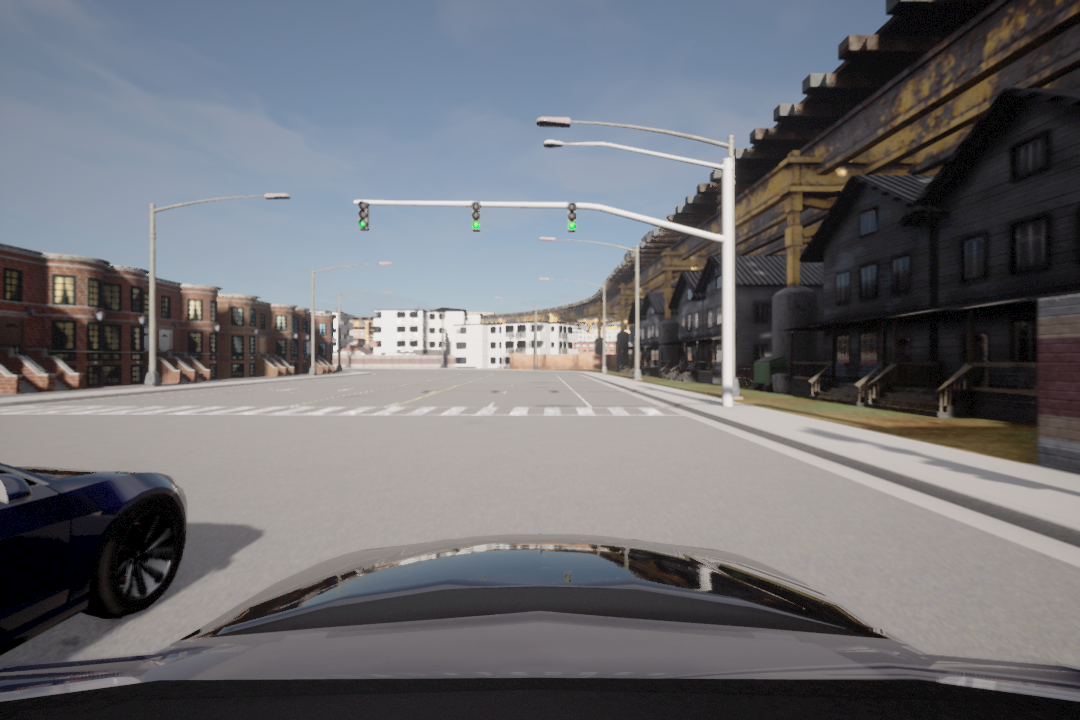TrafficLight: (564, 201, 584, 234), (355, 198, 372, 235), (471, 198, 486, 237)
walkside: (2, 398, 688, 421)
